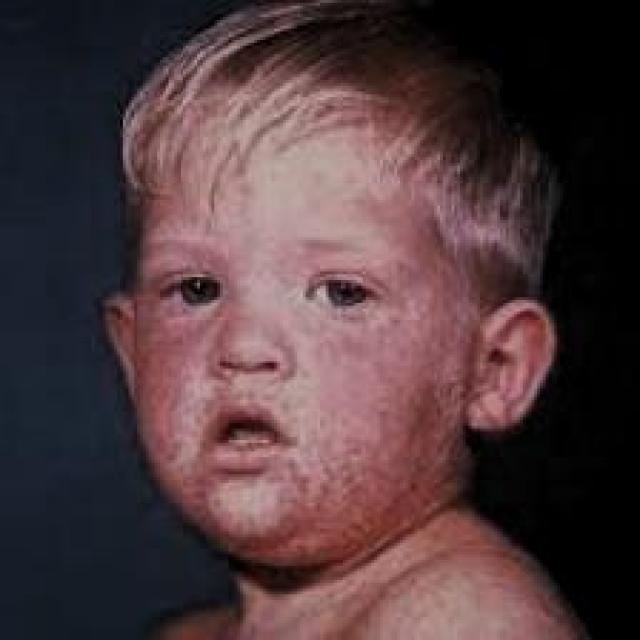others: (105, 177, 546, 640)
